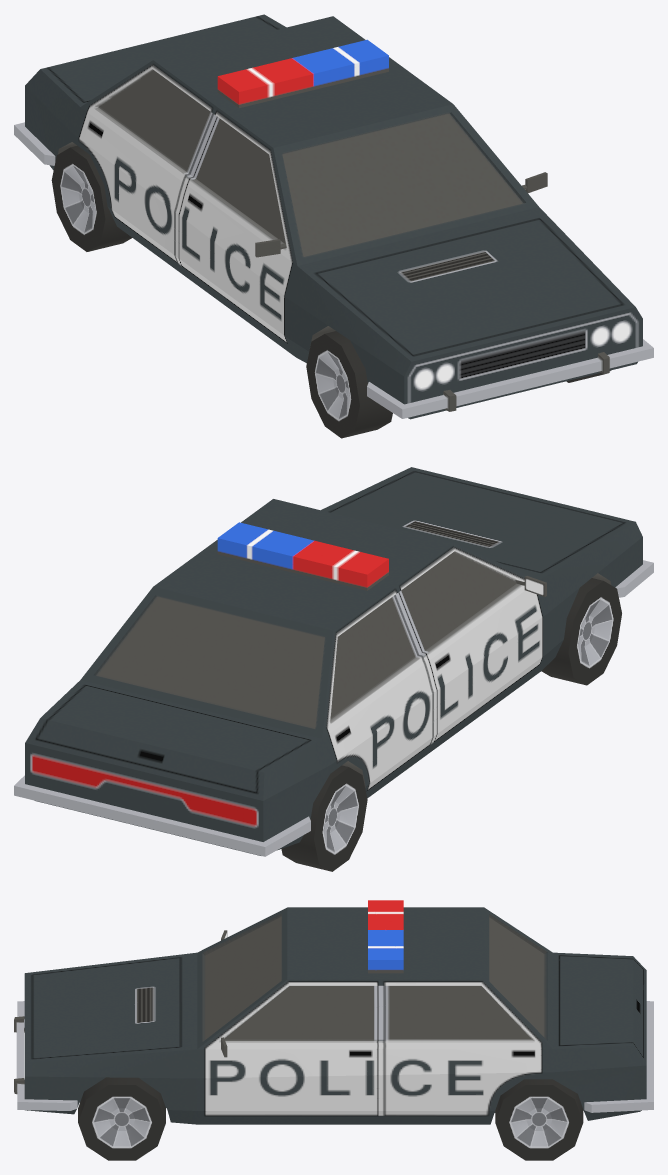
Rendered from PoliceCar.glb.
3 renders of one model, top to bottom at view 1: azimuth 30°, elevation 25°; view 2: azimuth 150°, elevation 25°; view 3: azimuth 270°, elevation 25°, orthographic. The views are drawn at different scales.
Visible parts, largest first — view 1: Object005; view 2: Object005; view 3: Object005.
Part boxes in pixels (box(x1,y1,x2,y2)): Object005: box(14, 14, 653, 438); Object005: box(14, 467, 653, 871); Object005: box(14, 900, 653, 1160).
Size of the model in its own units: 1.01 by 0.7166 by 2.34.
Materials: 5 (5 with a texture image).
